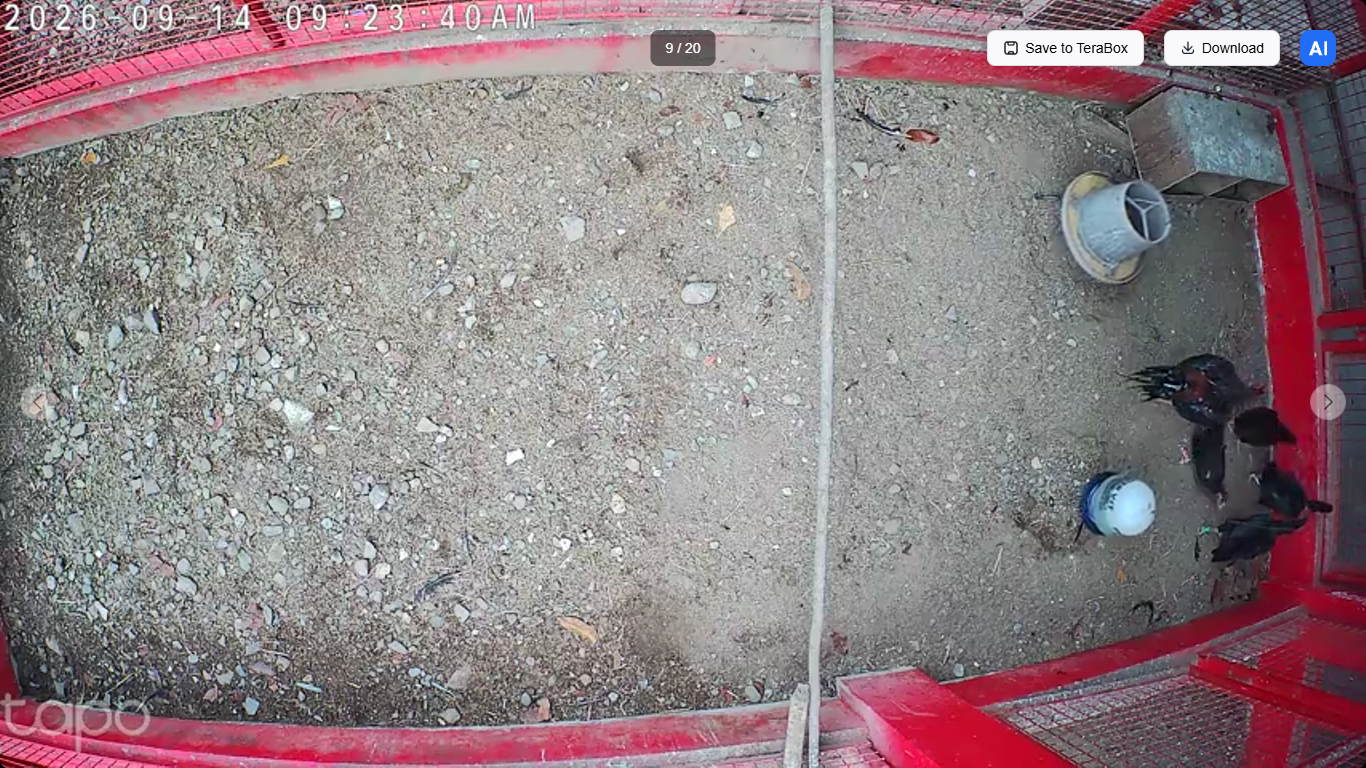Chicken: (1195, 507, 1316, 565)
Leg_Band_Green: (1198, 525, 1213, 533)
Rooster: (1117, 347, 1272, 428)
